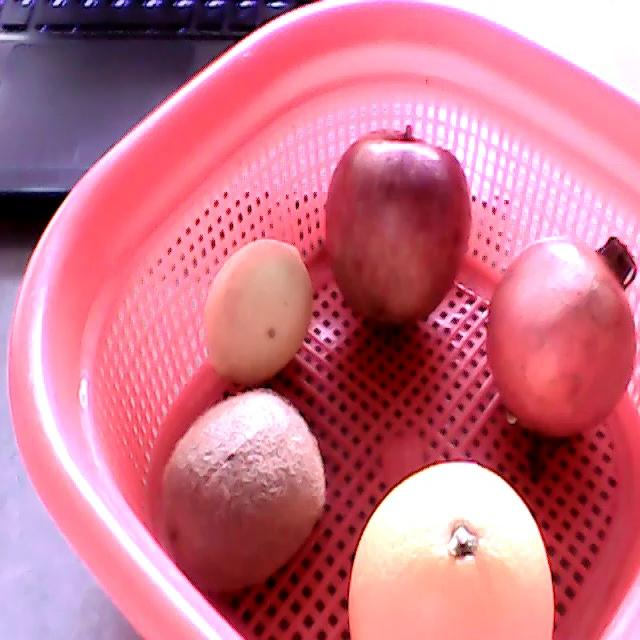apple: (324, 121, 471, 330)
kiwi: (161, 390, 325, 591)
lemon: (200, 238, 311, 383)
orange: (348, 461, 554, 639)
pomegranate: (487, 239, 636, 436)
